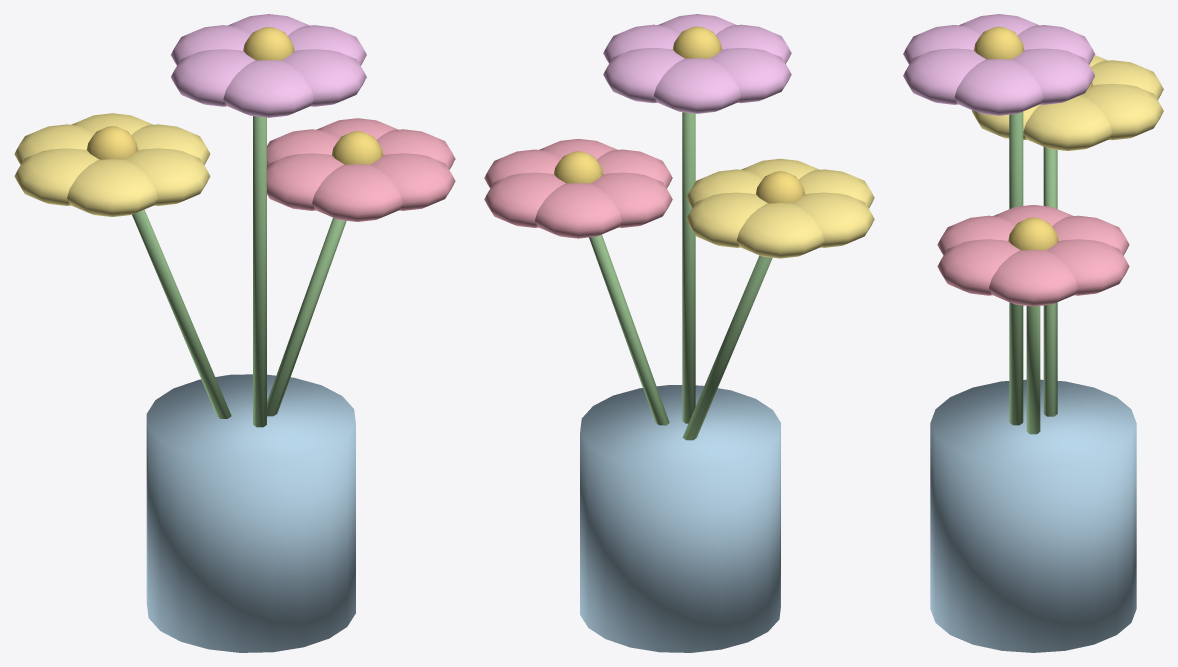
The model's file is escena.casa.flores.fbx.
The picture shows the model from 3 angles, left to right: view 1: azimuth 30°, elevation 25°; view 2: azimuth 150°, elevation 25°; view 3: azimuth 270°, elevation 25°; orthographic projection. The views are drawn at different scales.
Visible parts, largest first — view 1: Florero, Tallo.002, Petalo.007, Petalo.001, Petalo.013, Tallo.001, Petalo.012, Petalo.002, Petalo.006, Petalo.008, Petalo.014, Tallo (+13 smaller); view 2: Florero, Tallo.002, Petalo.017, Petalo.005, Petalo.011, Petalo, Petalo.016, Petalo.010, Petalo.012, Petalo.004, Petalo.006, Tallo (+13 smaller); view 3: Florero, Petalo.015, Petalo.003, Petalo.009, Tallo.002, Petalo.002, Petalo.004, Petalo.016, Petalo.014, Petalo.010, Tallo.001, Tallo (+10 smaller).
Boxes of the visible parts, x1,y1,x2,y2 form: Florero: [146, 374, 355, 652]; Tallo.002: [253, 116, 266, 427]; Petalo.007: [67, 159, 157, 216]; Petalo.001: [312, 164, 402, 221]; Petalo.013: [223, 60, 314, 117]; Tallo.001: [132, 209, 231, 418]; Petalo.012: [171, 49, 255, 106]; Petalo.002: [371, 153, 455, 210]; Petalo.006: [14, 148, 99, 205]; Petalo.008: [125, 148, 210, 205]; Petalo.014: [282, 49, 366, 106]; Tallo: [267, 217, 346, 416]; Florero: [580, 385, 780, 652]; Tallo.002: [682, 112, 695, 423]; Petalo.017: [654, 58, 740, 113]; Petalo.005: [535, 183, 622, 238]; Petalo.011: [736, 203, 823, 258]; Petalo: [591, 172, 672, 227]; Petalo.016: [603, 47, 684, 103]; Petalo.010: [686, 192, 767, 247]; Petalo.012: [710, 47, 791, 103]; Petalo.004: [484, 172, 565, 227]; Petalo.006: [793, 192, 874, 247]; Tallo: [589, 234, 669, 425]; Florero: [930, 379, 1136, 652]; Petalo.015: [954, 59, 1043, 115]; Petalo.003: [989, 250, 1077, 306]; Petalo.009: [1023, 95, 1112, 150]; Tallo.002: [1009, 111, 1023, 425]; Petalo.002: [937, 239, 1020, 295]; Petalo.004: [1046, 239, 1129, 295]; Petalo.016: [1012, 48, 1094, 104]; Petalo.014: [903, 48, 985, 104]; Petalo.010: [1081, 83, 1163, 140]; Tallo.001: [1043, 147, 1057, 416]; Tallo: [1026, 306, 1040, 434].
Bounding box in the file's own units: 0.27 × 0.373 × 0.152.
